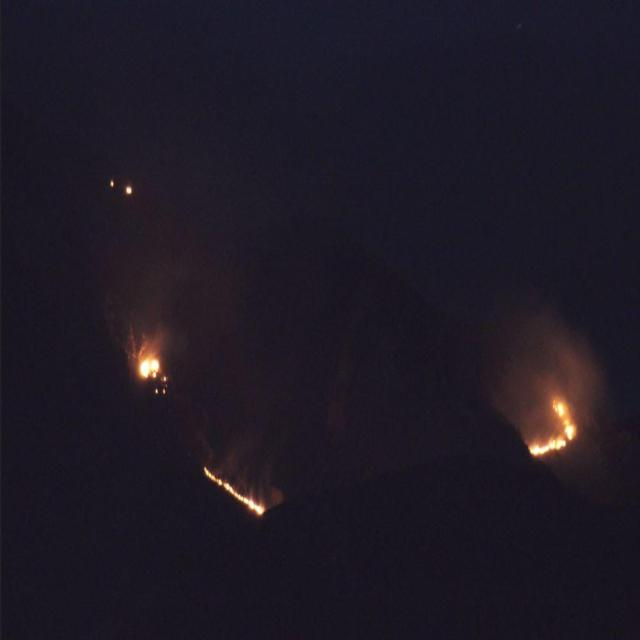Fire: (192, 456, 272, 527), (527, 384, 580, 466), (123, 337, 174, 399)
